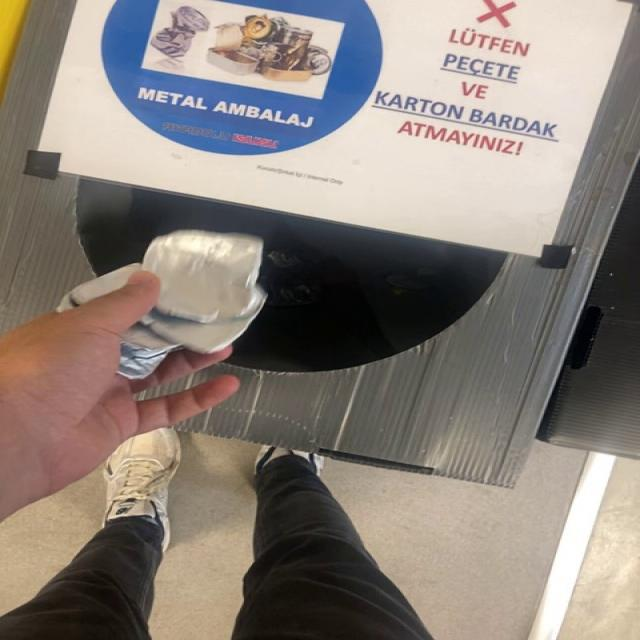bin: (1, 0, 639, 486)
metal: (140, 230, 267, 354), (68, 266, 133, 304)
